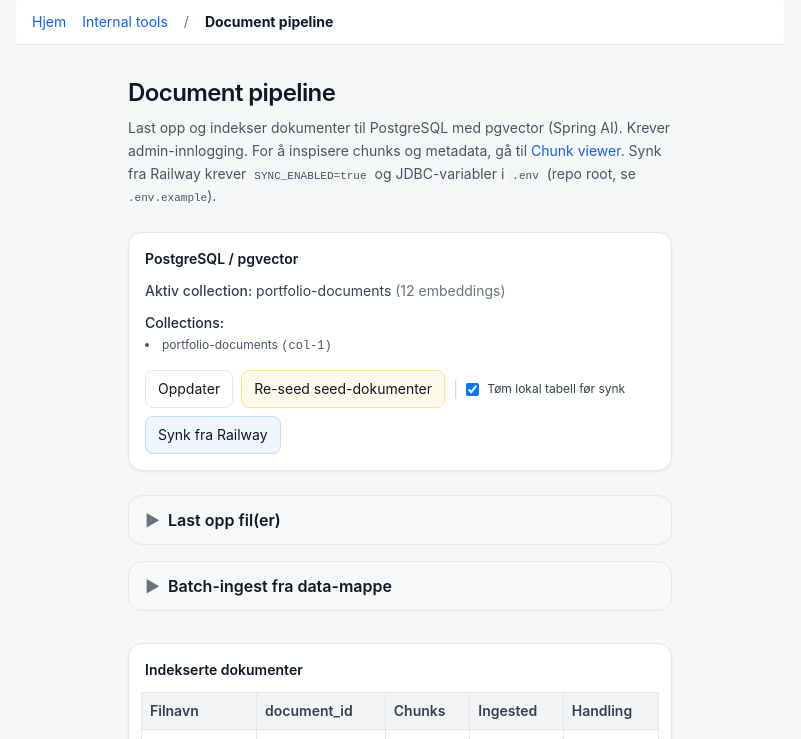
Test case: Admin CRUD views (integration-style) › AdminPipelineView surfaces 403 detail from sync response
Click the button "Synk fra Railway": {"x": 213, "y": 435} [145, 416, 281, 454]
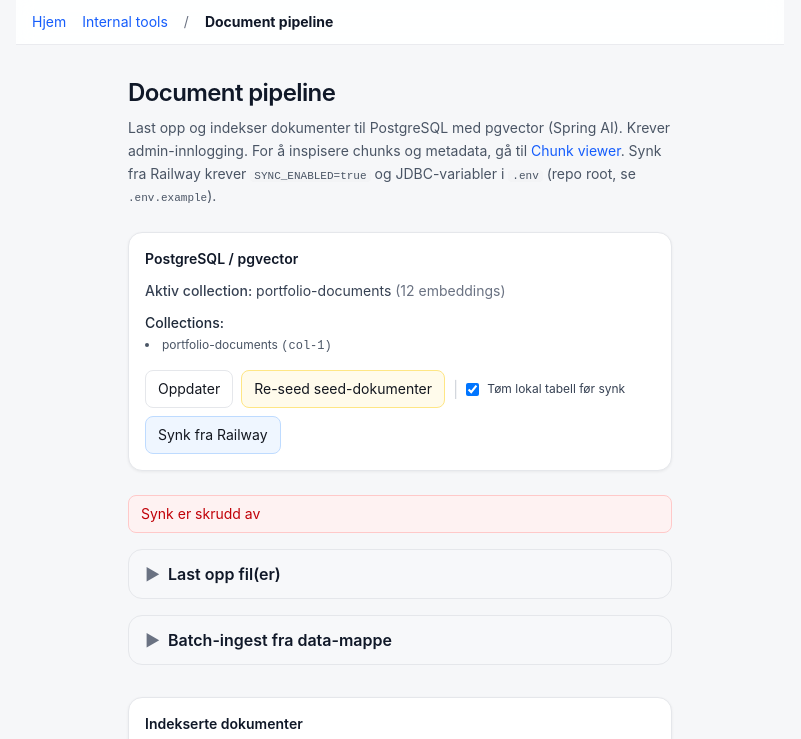
Expected: the text "Synk er skrudd av" is shown, [128, 495, 672, 533]
